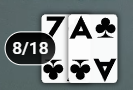7: (41, 14, 67, 40)
a: (67, 13, 94, 42)
